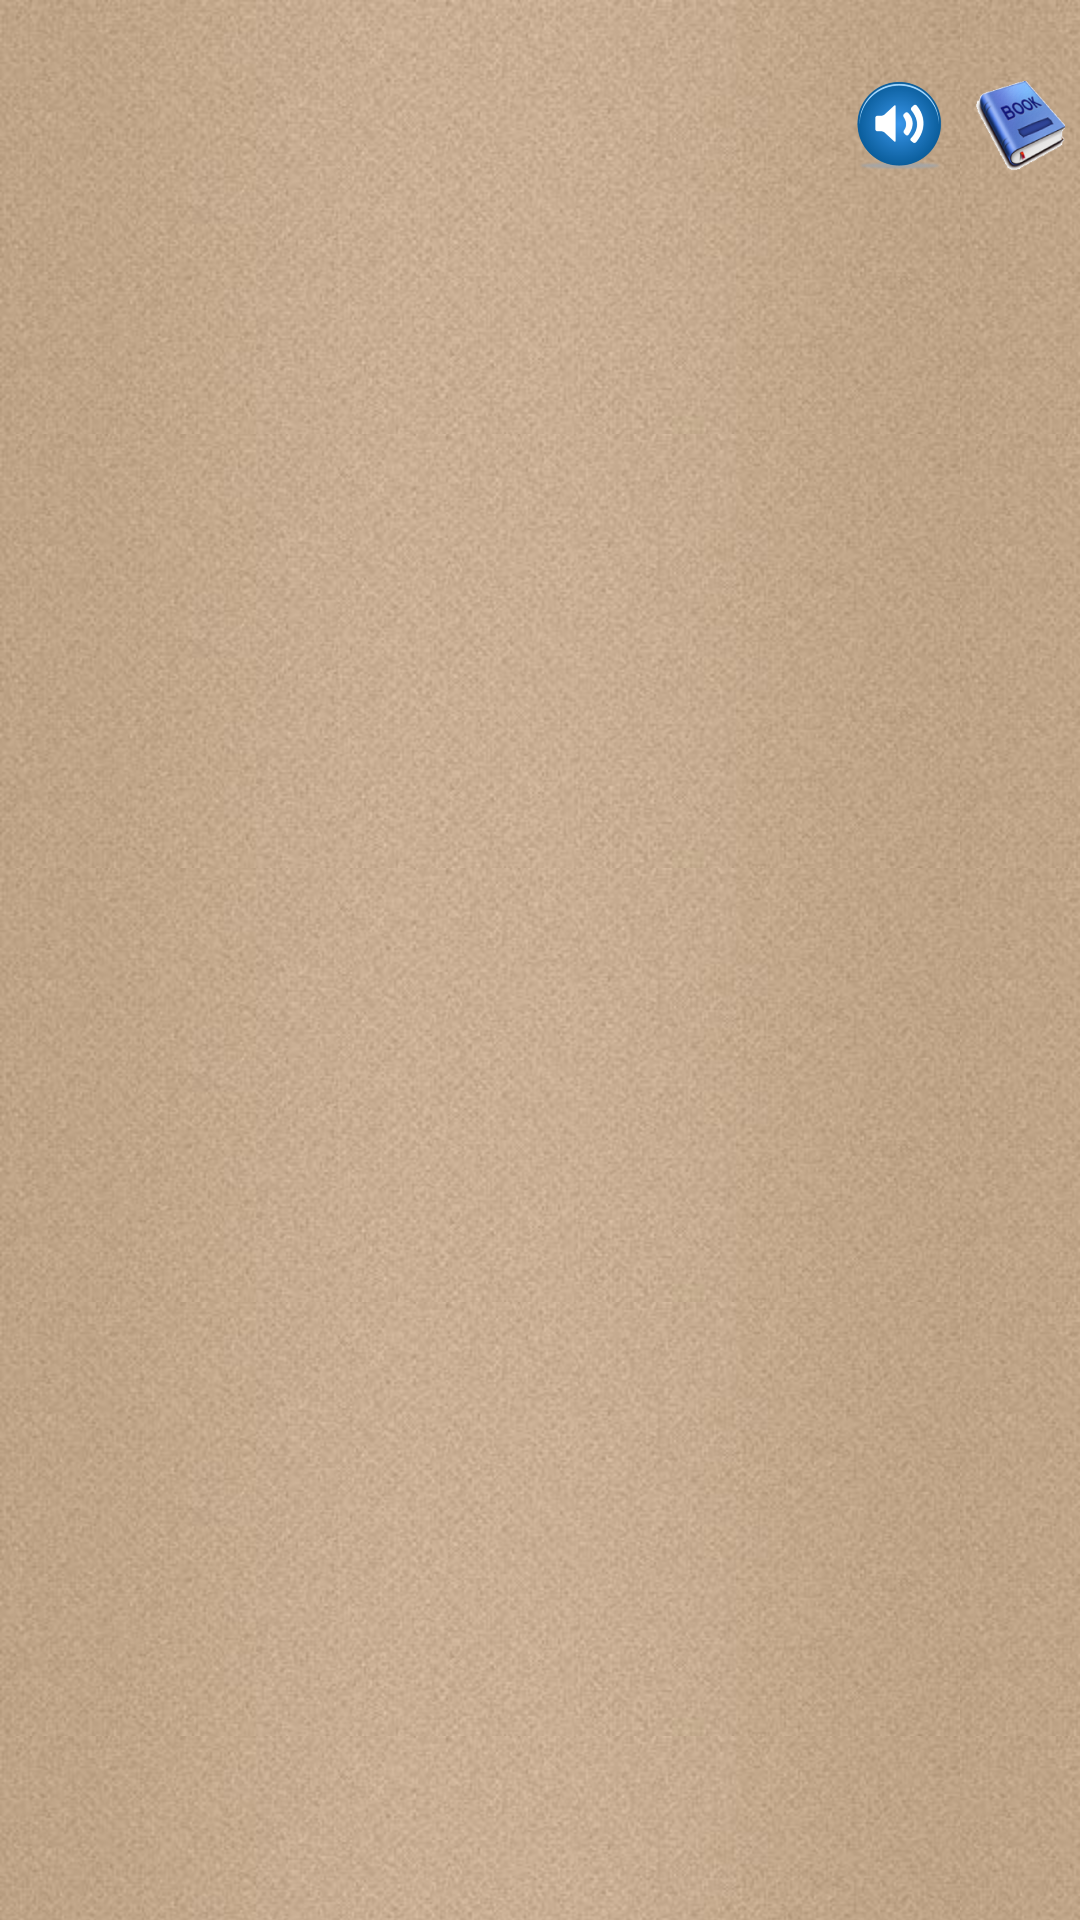

Icon click points for this 1080 x 1920 phone screenshot, format point (x, y):
bfq voice: point (899, 125)
